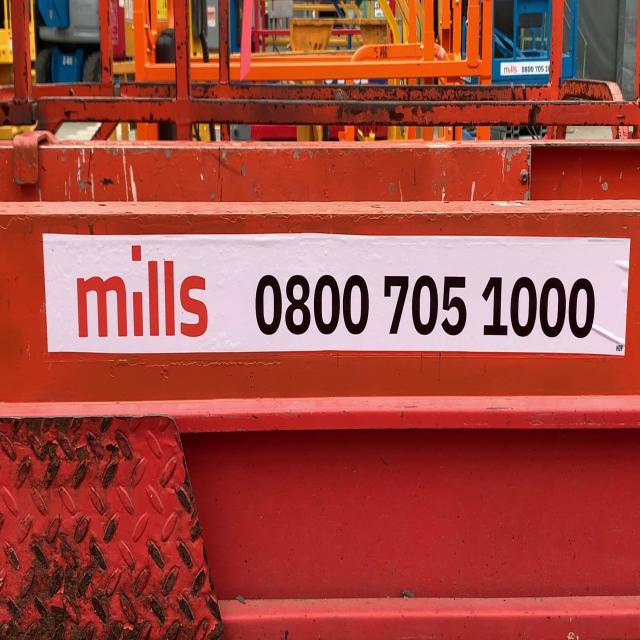Adesivo Longo: (41, 225, 634, 361)
